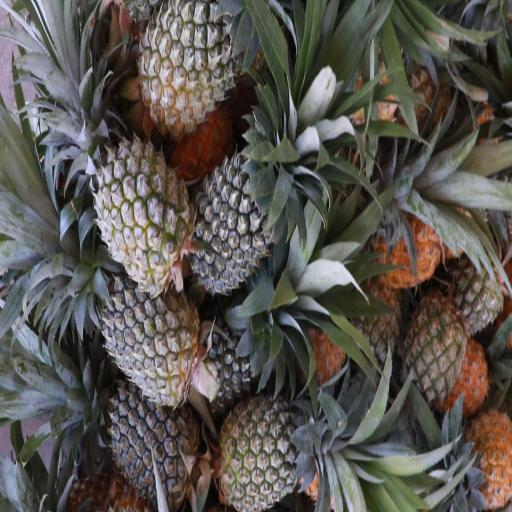------------------------------: (144, 0, 250, 135), (100, 138, 189, 290), (219, 392, 317, 512), (405, 298, 470, 402)
Pineapple - v8 v1: (378, 186, 444, 282), (457, 411, 512, 512)
